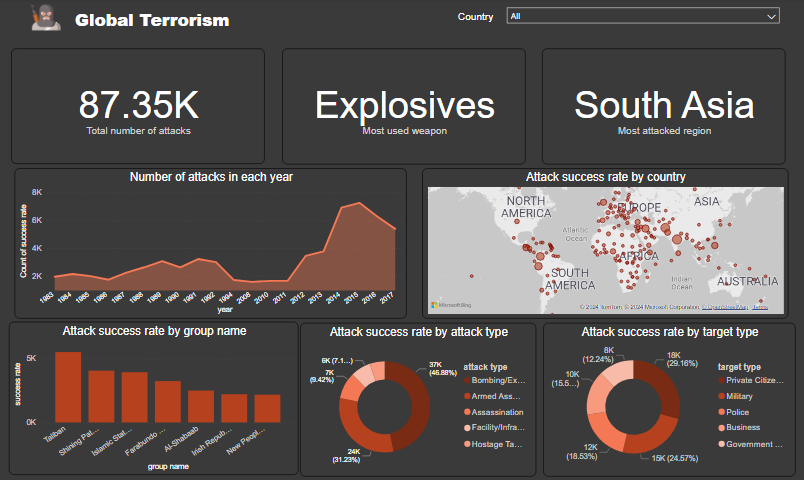

This screenshot's page, from the dashboard's own definition file:
{"tool":"powerbi","page":{"name":"Page 1","canvas":[1280,765],"ordinal":0},"visuals":[{"type":"donutChart","title":"Attack success rate by attack type","fields":{"Category":["Terrorism.attack type"],"Y":["Sum(Terrorism.success rate)"]},"box":[475.6,514.1,374,244],"z":0},{"type":"donutChart","title":"Attack success rate by target type","fields":{"Y":["Sum(Terrorism.success rate)"],"Category":["Terrorism.target type"]},"box":[861.6,514.1,400,244],"z":1000},{"type":"areaChart","title":"Number of attacks in each year","fields":{"Category":["Terrorism.year"],"Y":["CountNonNull(Terrorism.success rate)"]},"box":[22.2,270.1,621.7,238.3],"z":2000},{"type":"map","title":"Attack success rate by country","fields":{"Category":["Terrorism.country"],"Size":["Sum(Terrorism.success rate)"]},"box":[668.9,270.1,580,238.3],"z":3000},{"type":"clusteredColumnChart","title":"Attack success rate by group name","fields":{"Category":["Terrorism.group name"],"Y":["Sum(Terrorism.success rate)"]},"box":[14.4,513.4,459.4,243.2],"z":4000},{"type":"card","fields":{"Values":["CountNonNull(Terrorism.attack type)"]},"box":[18.3,80,401.7,183.3],"z":5000},{"type":"card","fields":{"Values":["Min(Terrorism.weapon type)"]},"box":[446.6,79.2,386.1,183.7],"z":6000},{"type":"card","fields":{"Values":["Min(Terrorism.region)"]},"box":[859.8,79.2,386.1,183.7],"z":7000},{"type":"textbox","box":[0,0,1280,58],"z":8000},{"type":"slicer","fields":{"Values":["Terrorism.country"]},"box":[794,6,452,52],"z":9000},{"type":"textbox","box":[720,16,108,42],"z":10000},{"type":"image","box":[42,2,60,58],"z":11000},{"type":"textbox","box":[114,8,318,50],"z":12000}]}

Visuals, with their boxes in screenshot pixels (x1, y1, x2, y2), scaled from the page's 1280x765 canvas onto the 804x480 screenshot:
"Attack success rate by attack type" donutChart: box=[299, 323, 534, 476]
"Attack success rate by target type" donutChart: box=[541, 323, 792, 476]
"Number of attacks in each year" areaChart: box=[14, 169, 404, 319]
"Attack success rate by country" map: box=[420, 169, 784, 319]
"Attack success rate by group name" clusteredColumnChart: box=[9, 322, 298, 475]
card - CountNonNull(Terrorism.attack type): box=[11, 50, 264, 165]
card - Min(Terrorism.weapon type): box=[281, 50, 523, 165]
card - Min(Terrorism.region): box=[540, 50, 783, 165]
textbox: box=[0, 0, 803, 36]
slicer - Terrorism.country: box=[499, 4, 783, 36]
textbox: box=[452, 10, 520, 36]
image: box=[26, 1, 64, 38]
textbox: box=[72, 5, 271, 36]
